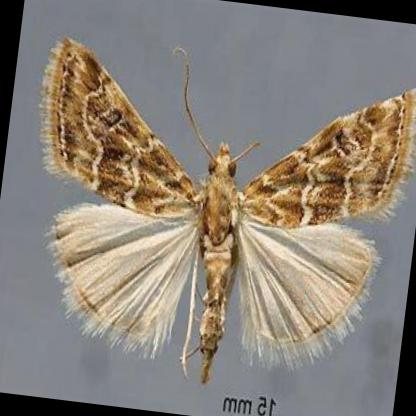Hellula undalis: (33, 26, 416, 389)
